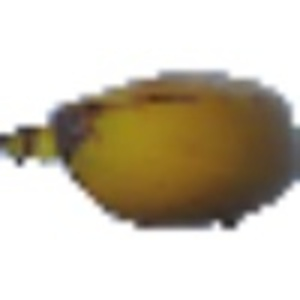banana: (11, 65, 299, 239)
